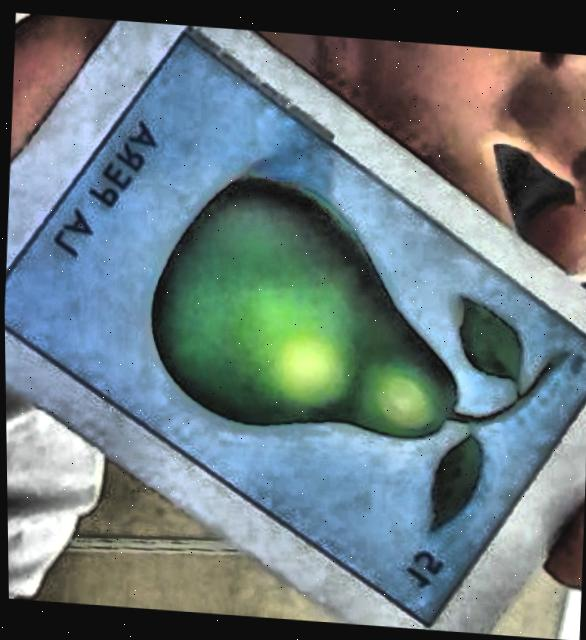La Pera: (4, 32, 586, 623)
